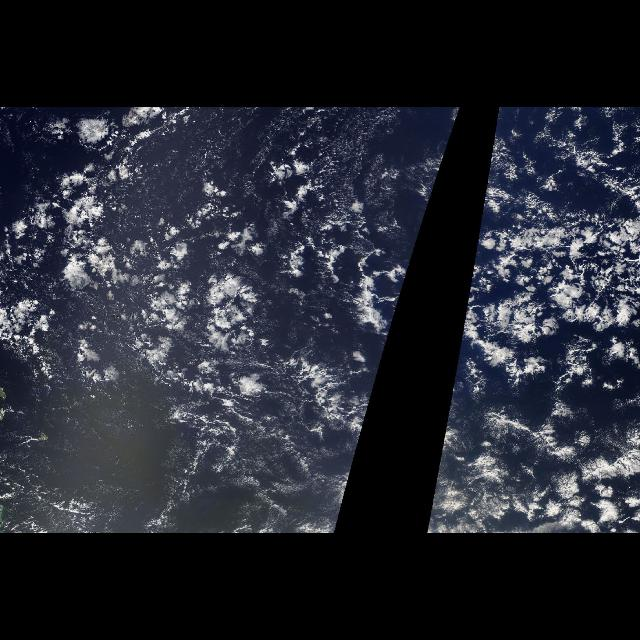Flower: (18, 115, 458, 528), (427, 115, 633, 528)
Gravel: (32, 144, 396, 368), (476, 207, 634, 356)
Sugar: (1, 321, 366, 533), (1, 108, 278, 312), (432, 332, 638, 504), (378, 332, 389, 373)
